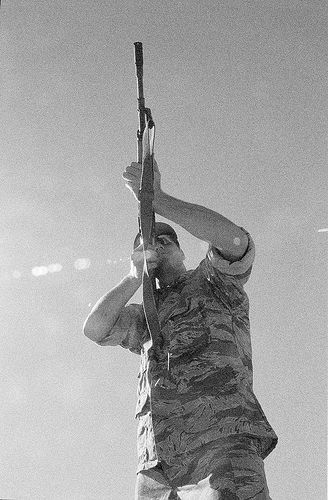rifle: (108, 33, 177, 167)
rifle in hand: (86, 31, 245, 285)
